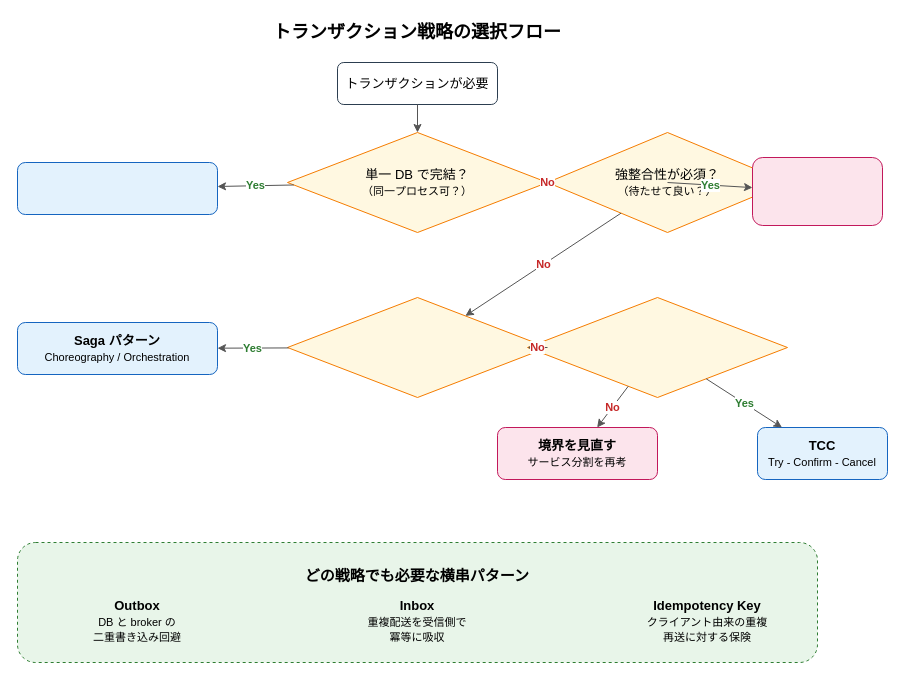
Some shapes in this 905 by 680 pixel diagram are drawn without their labels. Each missing label, with the centre of its shape:
"2PC / XA SPOF・ブロッキング 採用は最小限" belongs at pixel 817 191.
"ローカル ACID BEGIN / COMMIT で完結" belongs at pixel 117 188.
"予約状態を持てる？ （残高ホールド系）" belongs at pixel 657 347.
"補償アクションを 用意できる？" belongs at pixel 417 347.
